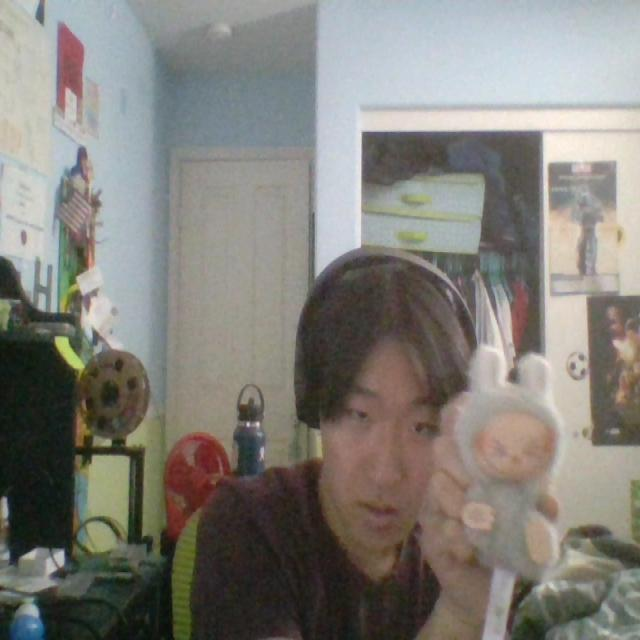labubu: (455, 353, 564, 579)
